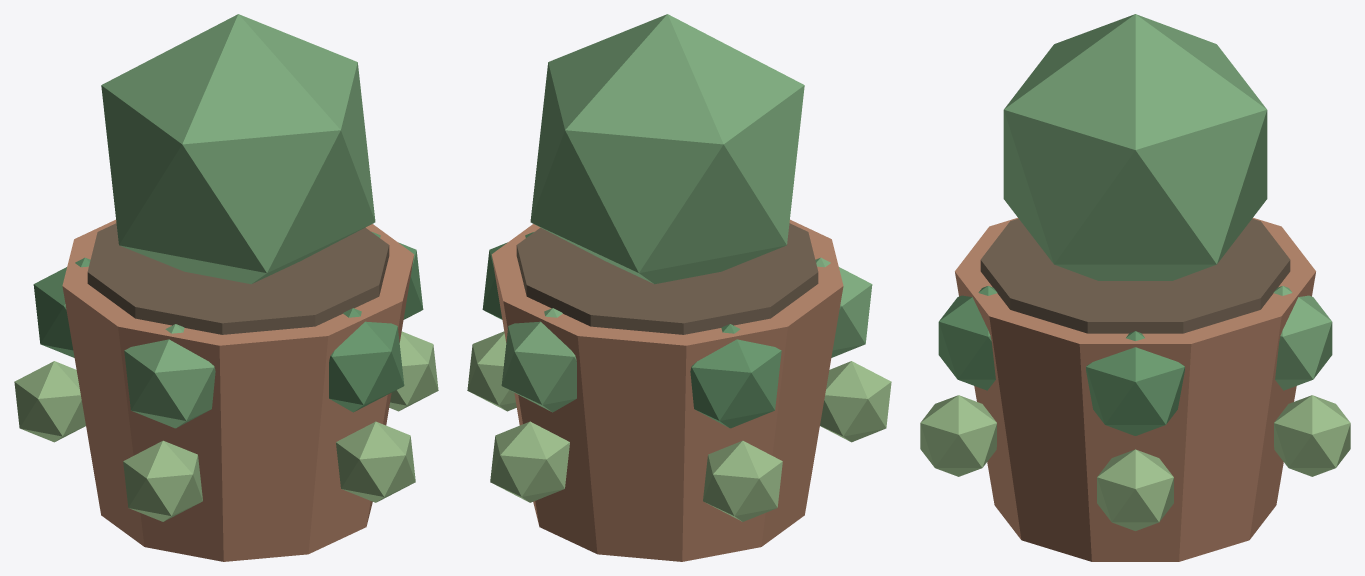
File: pla_hera.glb
3 views of the same model, side by side, from view 1: azimuth 30°, elevation 25°; view 2: azimuth 150°, elevation 25°; view 3: azimuth 270°, elevation 25° (orthographic).
Parts seen in each view (by area): view 1: PLA_HERA_v01; view 2: PLA_HERA_v01; view 3: PLA_HERA_v01.
Part boxes in pixels (left/top/right/bottom): PLA_HERA_v01: left=14, top=14, right=438, bottom=561; PLA_HERA_v01: left=467, top=14, right=891, bottom=561; PLA_HERA_v01: left=920, top=14, right=1350, bottom=561.
Bounding box in the file's own units: 0.3231 × 0.42 × 0.3334.
